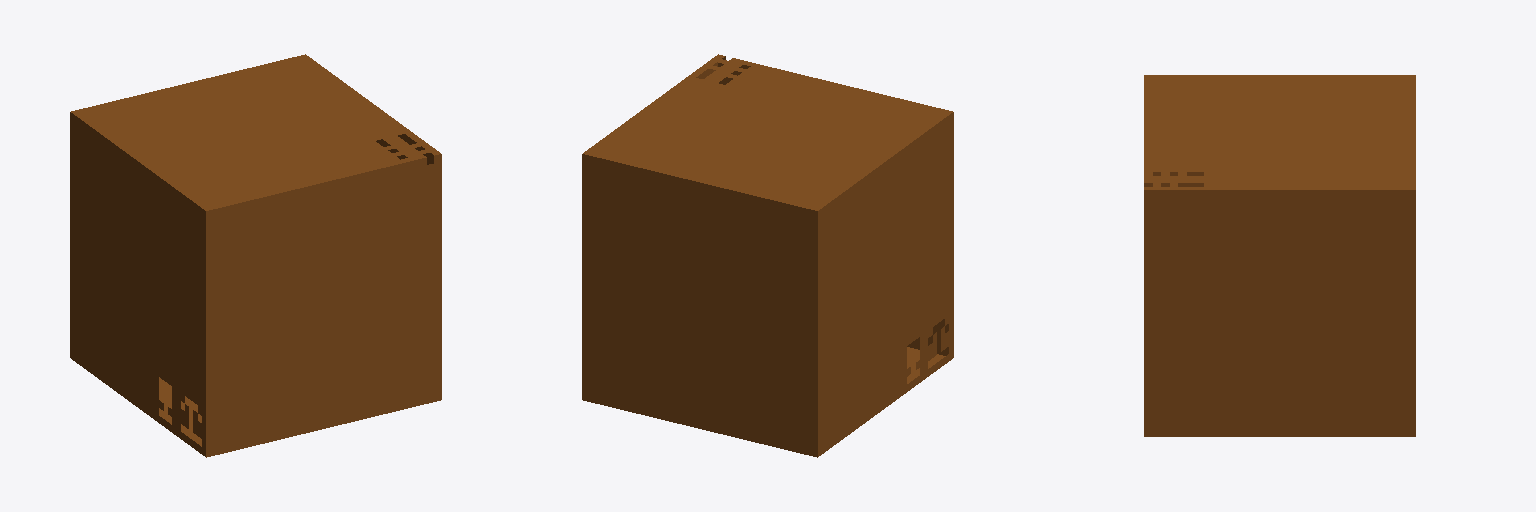
The picture shows the model from 3 angles: view 1: azimuth 30°, elevation 25°; view 2: azimuth 150°, elevation 25°; view 3: azimuth 270°, elevation 25°; orthographic projection.
Parts seen in each view (by area): view 1: object 1; view 2: object 1; view 3: object 1.
Boxes of the visible parts, x1,y1,x2,y2 form: object 1: [70, 54, 441, 457]; object 1: [582, 54, 953, 457]; object 1: [1144, 75, 1415, 436].
Size of the model in its own units: 3.2 by 3.2 by 3.2.
Materials: 1 (1 with a texture image).